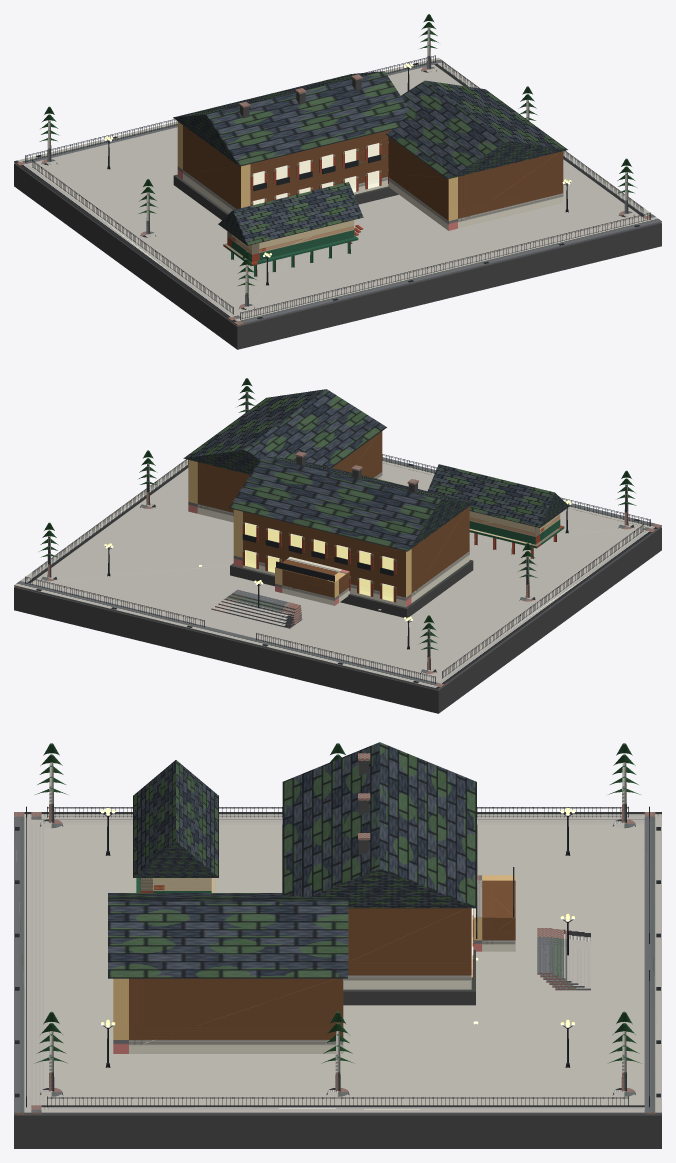
File: ultra_lm_13_bao_tang_lam_dong.glb
The picture shows the model from 3 angles, top to bottom: view 1: azimuth 30°, elevation 25°; view 2: azimuth 150°, elevation 25°; view 3: azimuth 270°, elevation 25°; orthographic projection. The views are drawn at different scales.
Visible parts, largest first — view 1: Mesh_BaoTang_HungVuong_GraniteCurb_WormBrick_And_Steps, Mesh_BaoTang_Mansard_Ardoise_SlateRoof, Mesh_BaoTang_NamPhuongPalace_Ochre_Stucco, Mesh_BaoTang_Copernicus_Minus3p5m_SplitStone_Skirt, Mesh_BaoTang_WroughtIron_Balcony_5GlobeLamps_And_Grates, Mesh_BaoTang_KHo_Traditional_StiltHouse_And_Shutters, Mesh_BaoTang_Palace_FrenchWindows_Blend085, Mesh_BaoTang_Hilltop_Pine_And_Gardens; view 2: Mesh_BaoTang_HungVuong_GraniteCurb_WormBrick_And_Steps, Mesh_BaoTang_Mansard_Ardoise_SlateRoof, Mesh_BaoTang_Copernicus_Minus3p5m_SplitStone_Skirt, Mesh_BaoTang_NamPhuongPalace_Ochre_Stucco, Mesh_BaoTang_WroughtIron_Balcony_5GlobeLamps_And_Grates, Mesh_BaoTang_KHo_Traditional_StiltHouse_And_Shutters, Mesh_BaoTang_Palace_FrenchWindows_Blend085, Mesh_BaoTang_Hilltop_Pine_And_Gardens; view 3: Mesh_BaoTang_HungVuong_GraniteCurb_WormBrick_And_Steps, Mesh_BaoTang_Mansard_Ardoise_SlateRoof, Mesh_BaoTang_NamPhuongPalace_Ochre_Stucco, Mesh_BaoTang_Copernicus_Minus3p5m_SplitStone_Skirt, Mesh_BaoTang_WroughtIron_Balcony_5GlobeLamps_And_Grates, Mesh_BaoTang_Hilltop_Pine_And_Gardens, Mesh_BaoTang_KHo_Traditional_StiltHouse_And_Shutters.
Boxes of the visible parts, bbox=[...] form: Mesh_BaoTang_HungVuong_GraniteCurb_WormBrick_And_Steps: bbox=[14, 27, 661, 325]; Mesh_BaoTang_Mansard_Ardoise_SlateRoof: bbox=[173, 71, 567, 245]; Mesh_BaoTang_NamPhuongPalace_Ochre_Stucco: bbox=[177, 121, 563, 230]; Mesh_BaoTang_Copernicus_Minus3p5m_SplitStone_Skirt: bbox=[14, 78, 661, 349]; Mesh_BaoTang_WroughtIron_Balcony_5GlobeLamps_And_Grates: bbox=[25, 55, 650, 319]; Mesh_BaoTang_KHo_Traditional_StiltHouse_And_Shutters: bbox=[223, 141, 388, 276]; Mesh_BaoTang_Palace_FrenchWindows_Blend085: bbox=[253, 143, 379, 204]; Mesh_BaoTang_Hilltop_Pine_And_Gardens: bbox=[39, 14, 636, 286]; Mesh_BaoTang_HungVuong_GraniteCurb_WormBrick_And_Steps: bbox=[14, 391, 661, 689]; Mesh_BaoTang_Mansard_Ardoise_SlateRoof: bbox=[183, 389, 569, 551]; Mesh_BaoTang_Copernicus_Minus3p5m_SplitStone_Skirt: bbox=[14, 455, 661, 713]; Mesh_BaoTang_NamPhuongPalace_Ochre_Stucco: bbox=[188, 431, 469, 607]; Mesh_BaoTang_WroughtIron_Balcony_5GlobeLamps_And_Grates: bbox=[25, 454, 650, 683]; Mesh_BaoTang_KHo_Traditional_StiltHouse_And_Shutters: bbox=[242, 511, 564, 602]; Mesh_BaoTang_Palace_FrenchWindows_Blend085: bbox=[245, 522, 393, 601]; Mesh_BaoTang_Hilltop_Pine_And_Gardens: bbox=[39, 378, 636, 650]; Mesh_BaoTang_HungVuong_GraniteCurb_WormBrick_And_Steps: bbox=[14, 753, 661, 1114]; Mesh_BaoTang_Mansard_Ardoise_SlateRoof: bbox=[108, 742, 476, 978]; Mesh_BaoTang_NamPhuongPalace_Ochre_Stucco: bbox=[113, 875, 515, 1053]; Mesh_BaoTang_Copernicus_Minus3p5m_SplitStone_Skirt: bbox=[14, 761, 661, 1148]; Mesh_BaoTang_WroughtIron_Balcony_5GlobeLamps_And_Grates: bbox=[15, 806, 660, 1107]; Mesh_BaoTang_Hilltop_Pine_And_Gardens: bbox=[35, 743, 640, 1063]; Mesh_BaoTang_KHo_Traditional_StiltHouse_And_Shutters: bbox=[136, 878, 473, 978].
Size of the model in its own units: 68 by 19.32 by 62.
9 materials, 4 textured.
